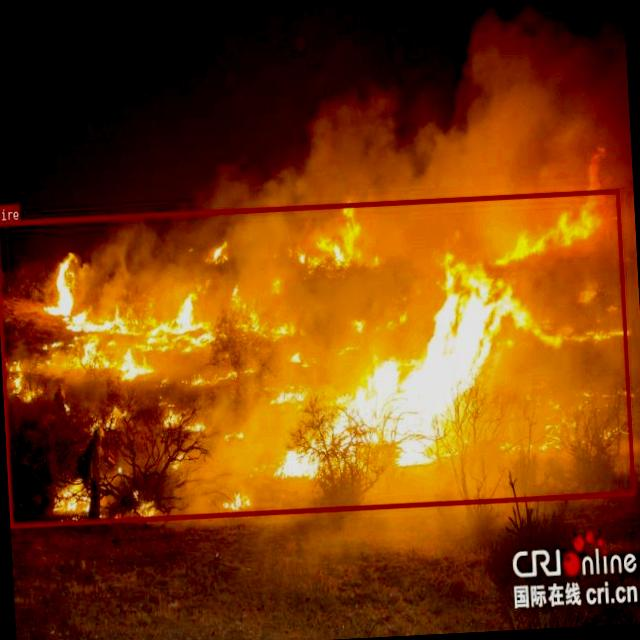fire: (0, 188, 634, 527)
